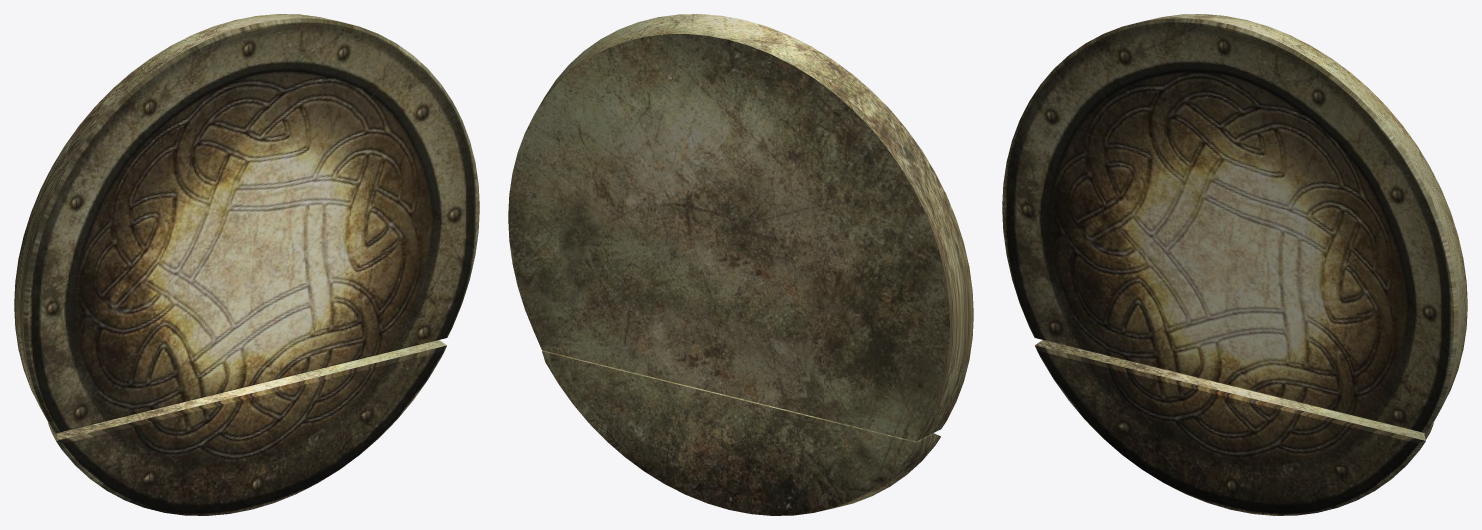
File: Level_01_V1_MetalDoors.FBX
The picture shows the model from 3 angles, left to right: view 1: azimuth 30°, elevation 25°; view 2: azimuth 150°, elevation 25°; view 3: azimuth 330°, elevation 25°; orthographic projection.
Visible parts, largest first — view 1: Metal_Door_Top, Metal_Door_bottom; view 2: Metal_Door_Top, Metal_Door_bottom; view 3: Metal_Door_Top, Metal_Door_bottom.
Part boxes in pixels (x1,y1,x2,y2): Metal_Door_Top: [14, 14, 479, 433]; Metal_Door_bottom: [48, 340, 446, 515]; Metal_Door_Top: [508, 14, 973, 441]; Metal_Door_bottom: [542, 350, 940, 515]; Metal_Door_Top: [1002, 14, 1467, 433]; Metal_Door_bottom: [1035, 340, 1433, 515].
Size of the model in its own units: 59.94 by 60.88 by 4.22.
